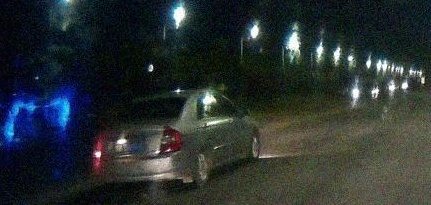L_light: (93, 134, 107, 158)
R_light: (159, 126, 183, 154)
T_light: (144, 100, 153, 103)
night-left: (92, 90, 188, 195)
